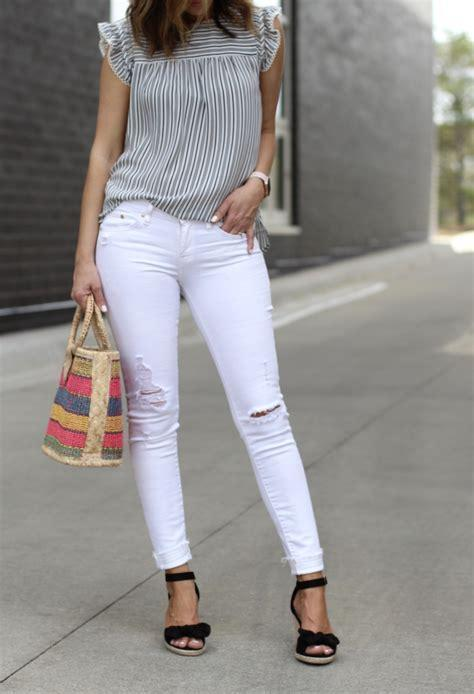pants: (94, 199, 324, 576)
shirt: (95, 5, 281, 249)
